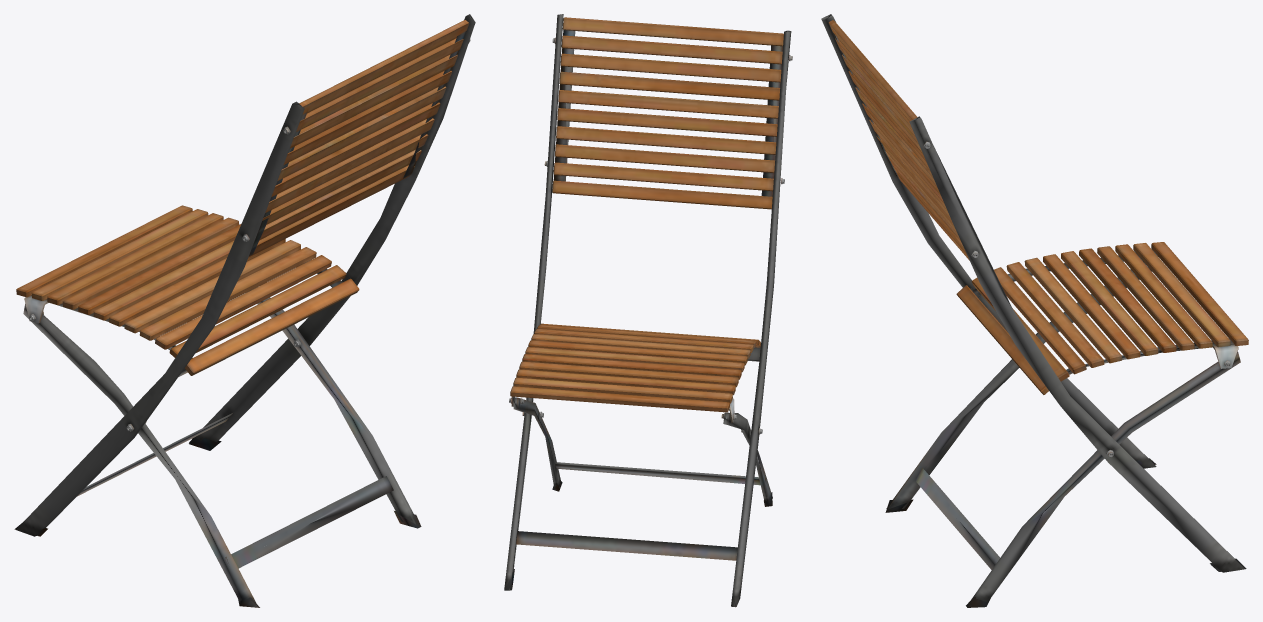
File: outdoor-chair-lod1.glb
The picture shows the model from 3 angles, left to right: view 1: azimuth 30°, elevation 25°; view 2: azimuth 150°, elevation 25°; view 3: azimuth 270°, elevation 25°; orthographic projection. The views are drawn at different scales.
Parts seen in each view (by area): view 1: outdoor_table_chair_set_01_chair_01; view 2: outdoor_table_chair_set_01_chair_01; view 3: outdoor_table_chair_set_01_chair_01.
Part boxes in pixels (x1,y1,x2,y2): outdoor_table_chair_set_01_chair_01: (14, 14, 475, 607); outdoor_table_chair_set_01_chair_01: (504, 14, 792, 607); outdoor_table_chair_set_01_chair_01: (821, 14, 1248, 607).
Bounding box in the file's own units: 0.5706 × 0.8553 × 0.6609.
1 material, 1 textured.
